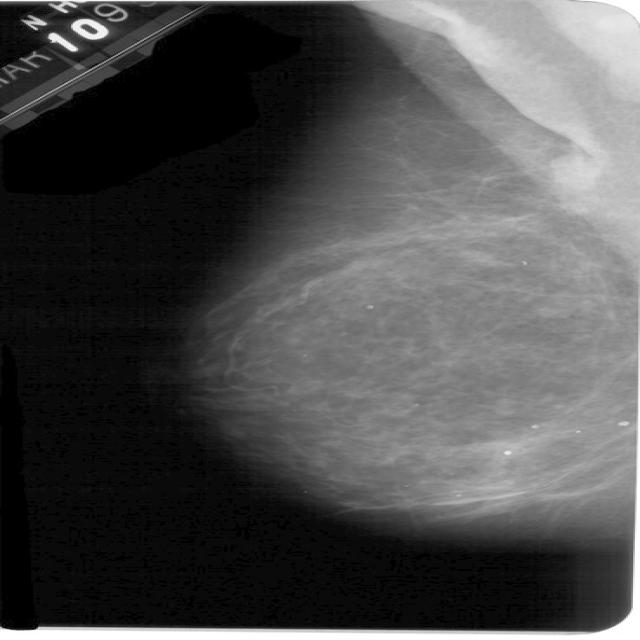tumour: (550, 149, 600, 188)
